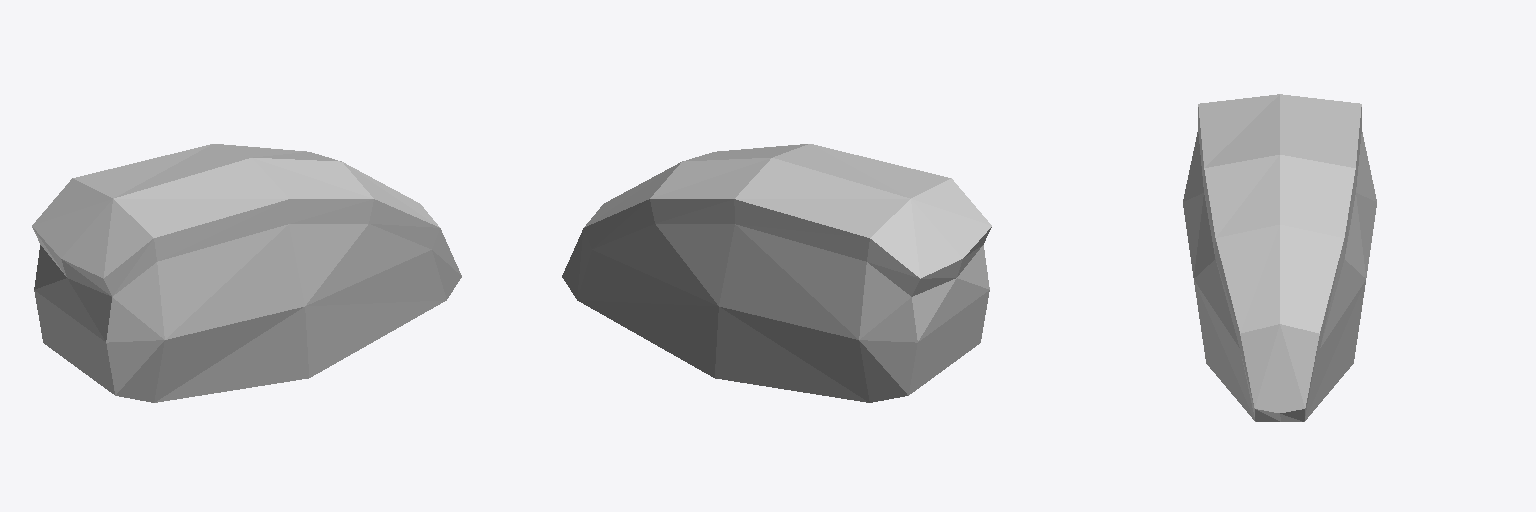
File: Sushi.OBJ
3 renders of one model, left to right at view 1: azimuth 30°, elevation 25°; view 2: azimuth 150°, elevation 25°; view 3: azimuth 270°, elevation 25°, orthographic.
Size of the model in its own units: 0.1268 by 0.0618 by 0.0548.